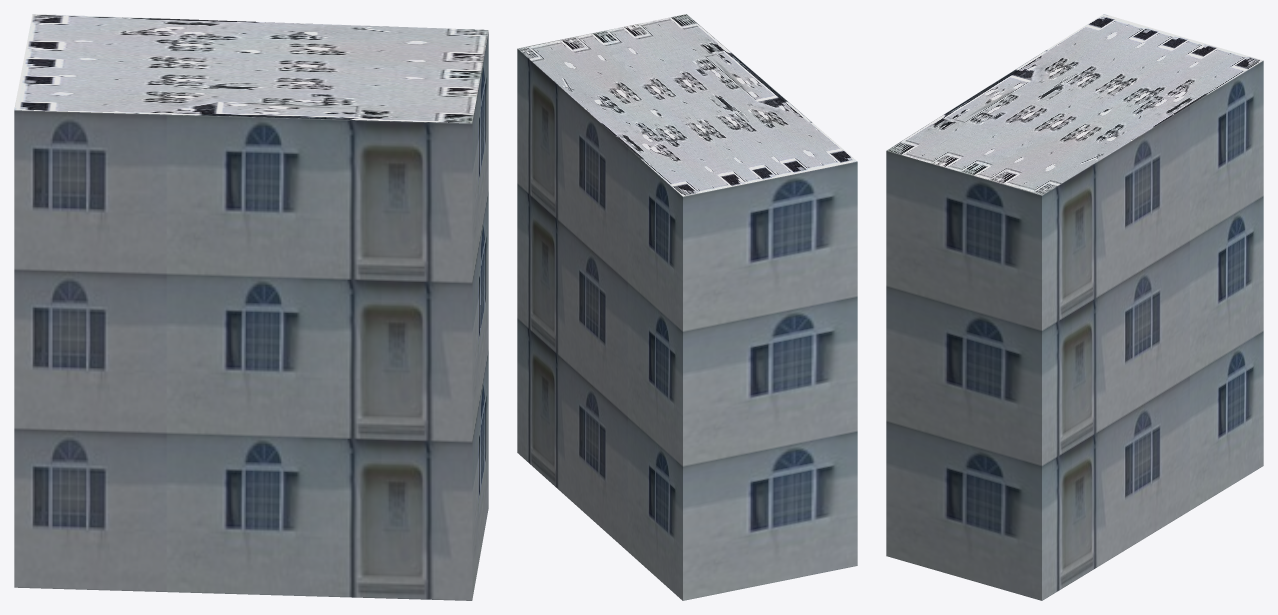
The model's file is ResTex__1857.fbx.
3 renders of one model, left to right at view 1: azimuth 30°, elevation 25°; view 2: azimuth 150°, elevation 25°; view 3: azimuth 270°, elevation 25°, orthographic. The views are drawn at different scales.
Visible parts, largest first — view 1: CityEngineMaterial_17_m, CityEngineMaterial_8_m; view 2: CityEngineMaterial_17_m, CityEngineMaterial_8_m; view 3: CityEngineMaterial_17_m, CityEngineMaterial_8_m.
Boxes of the visible parts, <box> form: CityEngineMaterial_17_m: <box>14,32,488,600</box>; CityEngineMaterial_8_m: <box>14,14,488,123</box>; CityEngineMaterial_17_m: <box>517,49,857,600</box>; CityEngineMaterial_8_m: <box>517,14,857,196</box>; CityEngineMaterial_17_m: <box>886,61,1263,600</box>; CityEngineMaterial_8_m: <box>886,14,1263,195</box>.
Bounding box in the file's own units: 8.64 × 9 × 7.59.
Materials: 2 (2 with a texture image).
